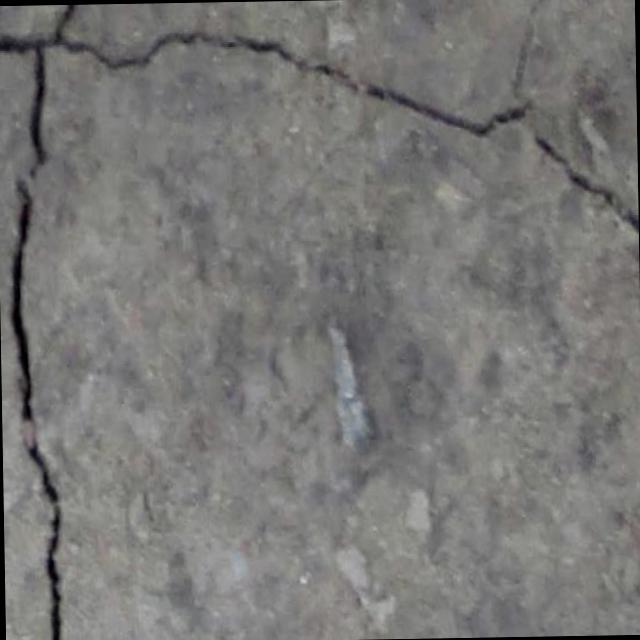crack: (0, 0, 637, 251), (0, 250, 66, 640)
